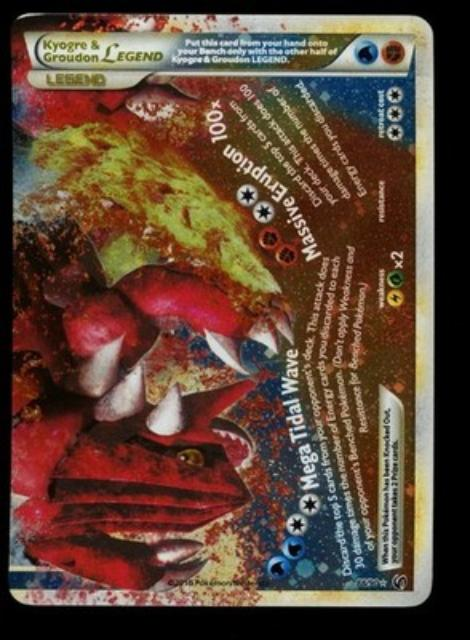Card: (0, 7, 438, 617)
Name: (36, 33, 169, 68)
